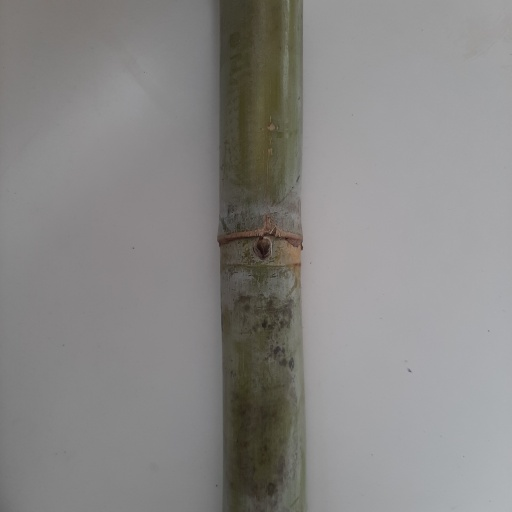Bud: (255, 237, 273, 260)
